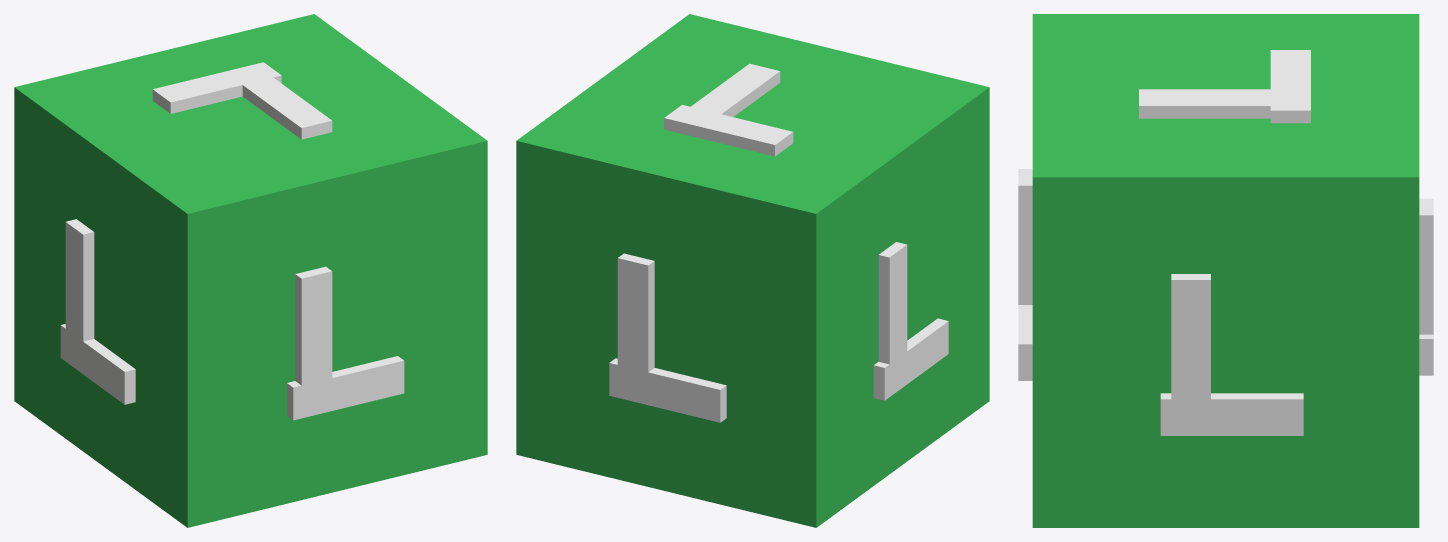
Rendered from DISTRACTOR_5.glb.
3 views of the same model, side by side, from view 1: azimuth 30°, elevation 25°; view 2: azimuth 150°, elevation 25°; view 3: azimuth 270°, elevation 25° (orthographic). The views are drawn at different scales.
Parts seen in each view (by area): view 1: DISTRACTOR_HIGH_5; view 2: DISTRACTOR_HIGH_5; view 3: DISTRACTOR_HIGH_5.
Boxes of the visible parts, x1,y1,x2,y2 form: DISTRACTOR_HIGH_5: (14,14,487,527); DISTRACTOR_HIGH_5: (516,14,989,527); DISTRACTOR_HIGH_5: (1018,14,1433,527).
Size of the model in its own units: 2.15 by 2.15 by 2.15.
